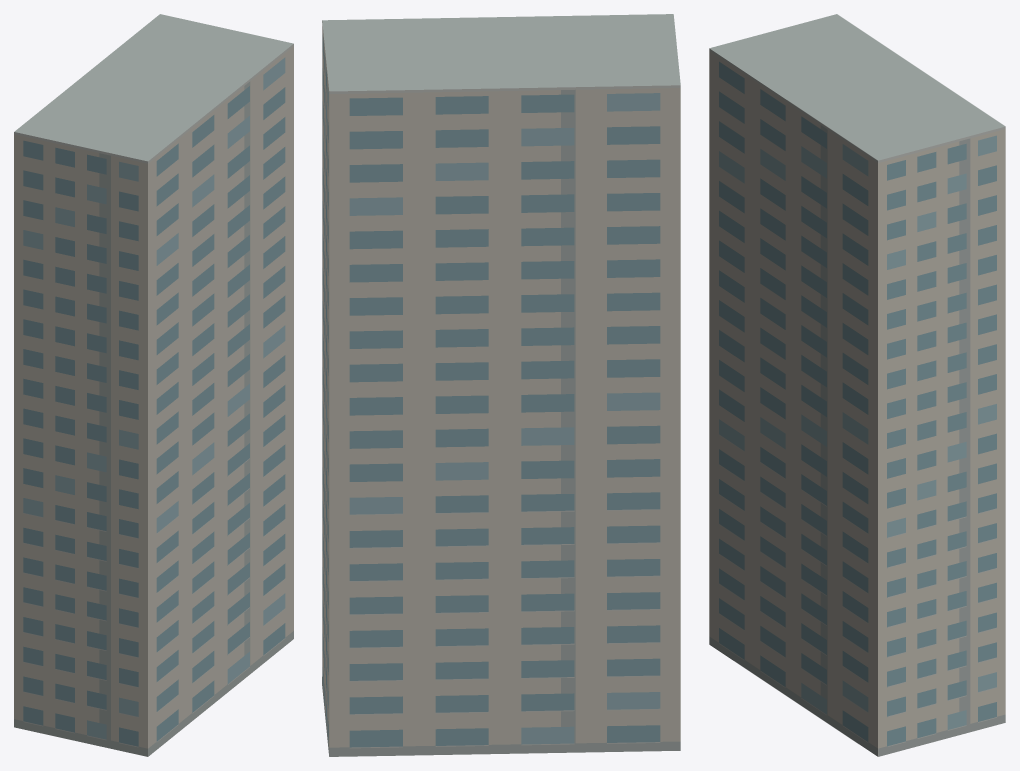
Rendered from residential-009db1d0-5cf9-4c6a-ba9f-f15faf5d2118.glb.
3 views of the same model, side by side, from view 1: azimuth 30°, elevation 25°; view 2: azimuth 150°, elevation 25°; view 3: azimuth 270°, elevation 25° (orthographic). The views are drawn at different scales.
Visible parts, largest first — view 1: residential-009db1d0-5cf9-4c6a-ba9f-f15faf5d2118.tmp; view 2: residential-009db1d0-5cf9-4c6a-ba9f-f15faf5d2118.tmp; view 3: residential-009db1d0-5cf9-4c6a-ba9f-f15faf5d2118.tmp.
Part boxes in pixels (bbox=[...]): residential-009db1d0-5cf9-4c6a-ba9f-f15faf5d2118.tmp: bbox=[14, 14, 293, 756]; residential-009db1d0-5cf9-4c6a-ba9f-f15faf5d2118.tmp: bbox=[322, 14, 680, 756]; residential-009db1d0-5cf9-4c6a-ba9f-f15faf5d2118.tmp: bbox=[709, 14, 1005, 756].
Size of the model in its own units: 32.2 by 61 by 27.51.
